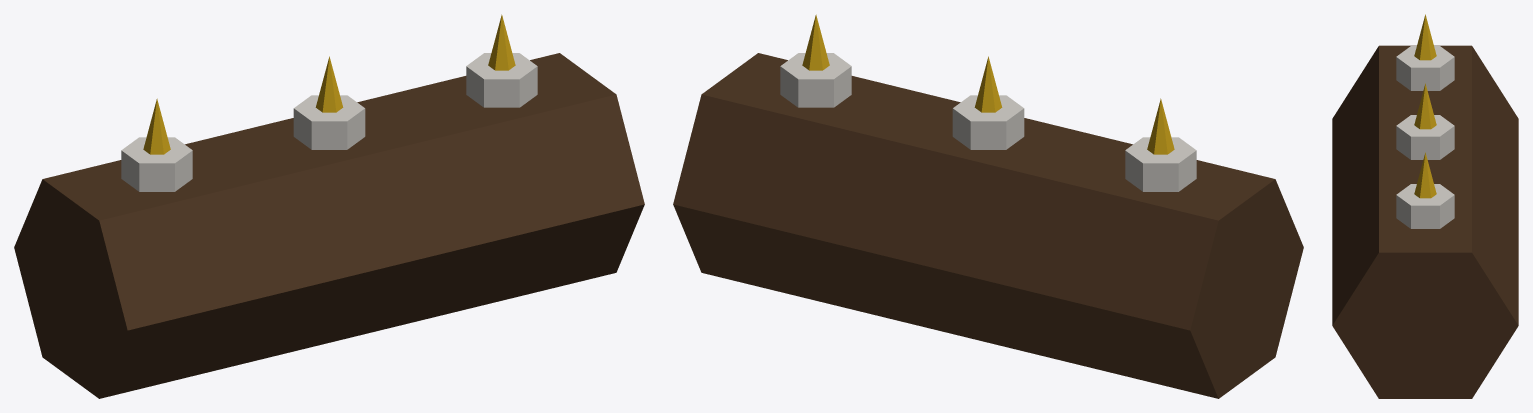
The model's file is candle-holder-43.glb.
3 views of the same model, side by side, from view 1: azimuth 30°, elevation 25°; view 2: azimuth 150°, elevation 25°; view 3: azimuth 270°, elevation 25° (orthographic). The views are drawn at different scales.
Visible parts, largest first — view 1: candle_holder_43; view 2: candle_holder_43; view 3: candle_holder_43.
Part boxes in pixels (box(x1,y1,x2,y2)): candle_holder_43: box(14, 14, 644, 398); candle_holder_43: box(673, 14, 1303, 398); candle_holder_43: box(1332, 14, 1518, 398).
Size of the model in its own units: 0.368 by 0.1761 by 0.14.
